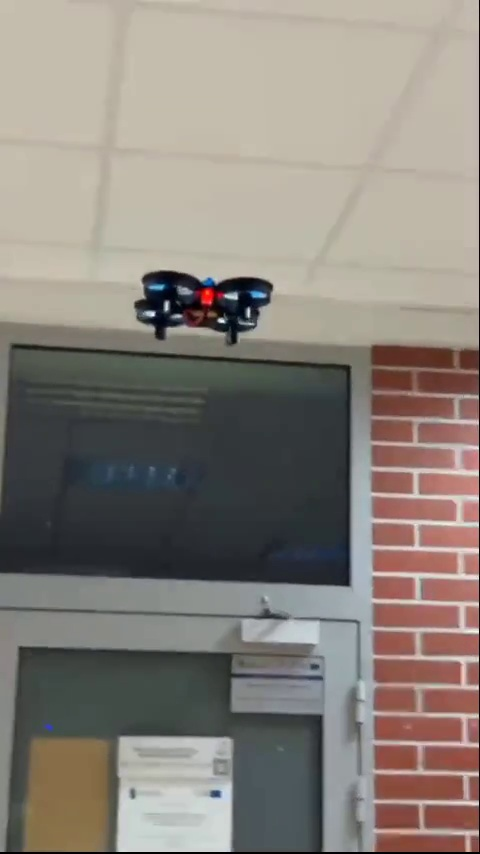drone: (134, 271, 270, 345)
